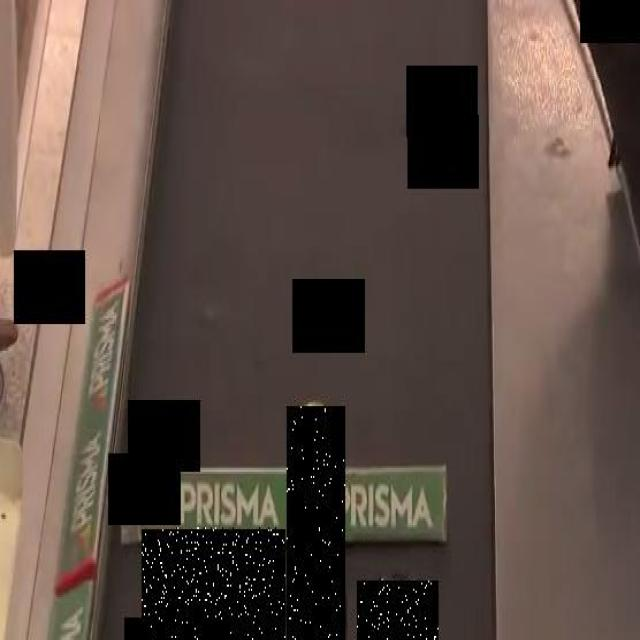beverage: (287, 406, 345, 640)
food-box: (356, 580, 438, 640)
utility-box: (142, 527, 286, 640), (124, 617, 281, 640)
